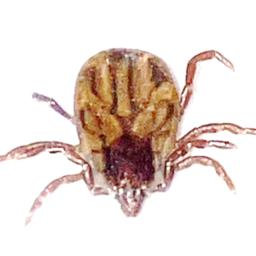Rhipicephalus sanguineus: (0, 47, 256, 226)
